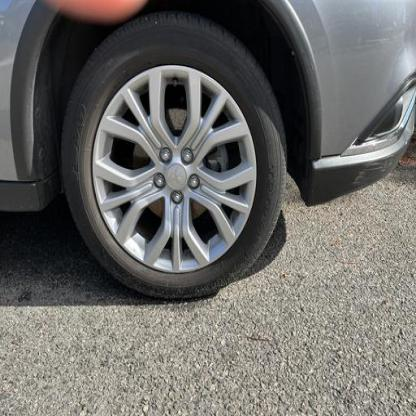Tire: (55, 12, 288, 303)
